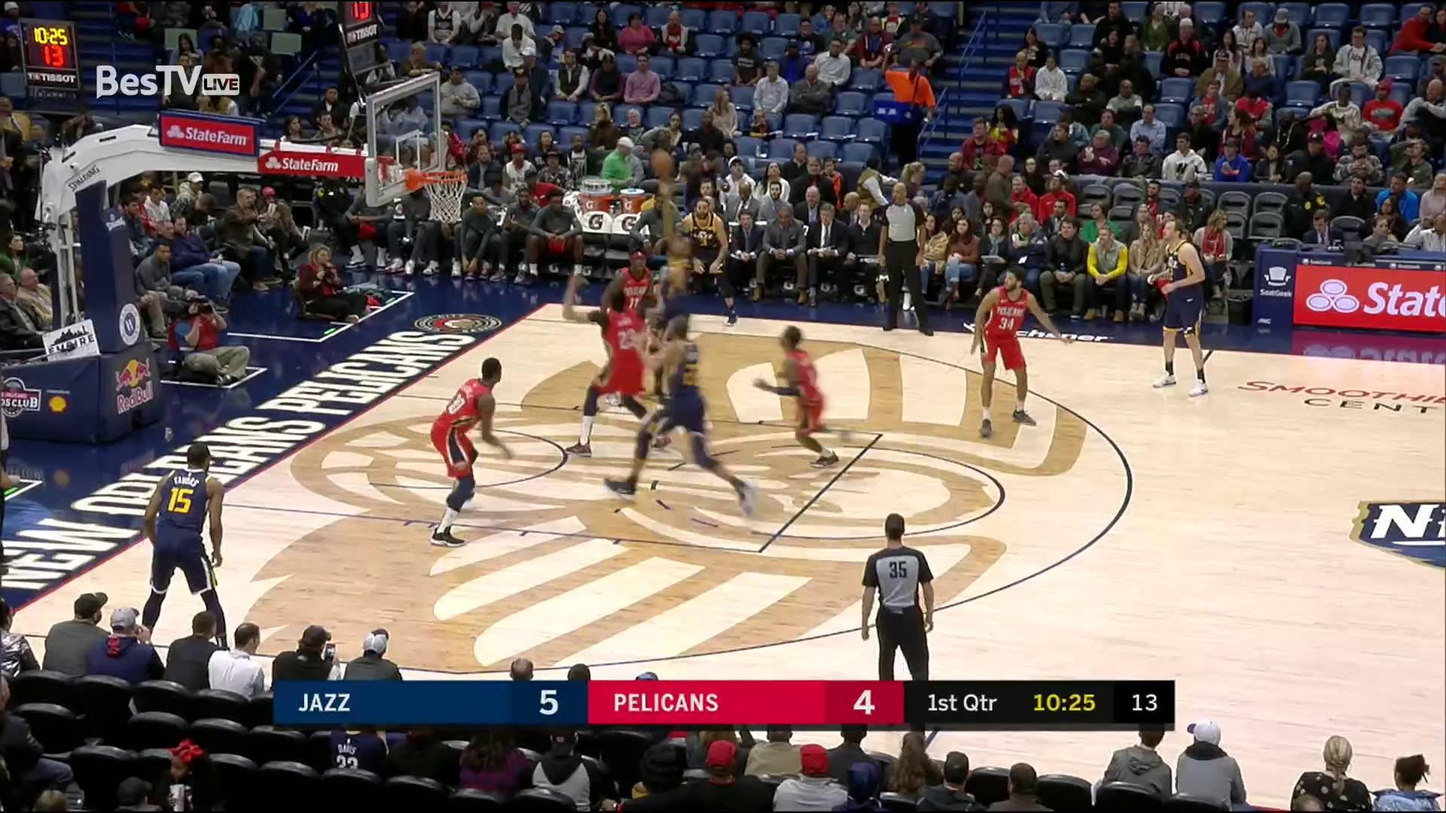basketball: (646, 149, 672, 177)
